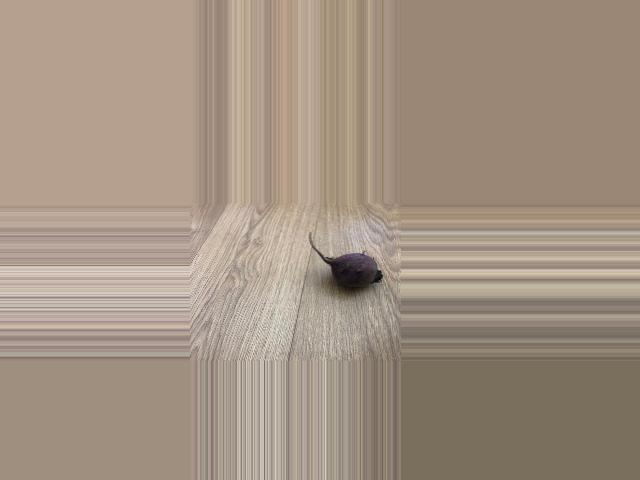beet: (306, 232, 381, 287)
